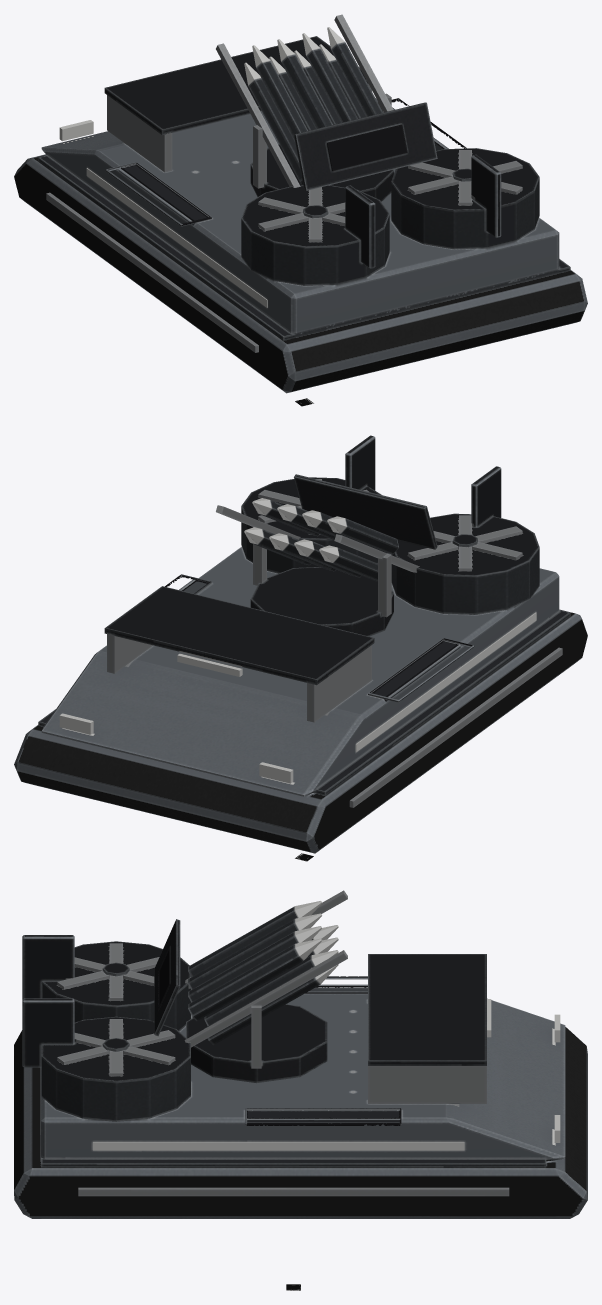
The model's file is chs_sling.fbx.
The picture shows the model from 3 angles, top to bottom: view 1: azimuth 30°, elevation 25°; view 2: azimuth 150°, elevation 25°; view 3: azimuth 270°, elevation 25°; orthographic projection. The views are drawn at different scales.
Visible parts, largest first — view 1: base_bar, turret_bar, fan1_bar, fan2_bar, base_glow_running_bar, turret_glow_weapon_bar, base_glow_head_bar; view 2: base_bar, turret_bar, fan1_bar, base_glow_running_bar, turret_glow_weapon_bar, base_glow_head_bar; view 3: base_bar, turret_bar, base_glow_running_bar, fan2_bar, fan1_bar, turret_glow_weapon_bar.
Part boxes in pixels (box(x1,y1,x2,y2)): base_bar: box(14, 36, 587, 393); turret_bar: box(216, 14, 437, 201); fan1_bar: box(258, 187, 345, 242); fan2_bar: box(408, 150, 522, 205); base_glow_running_bar: box(86, 168, 267, 307); turret_glow_weapon_bar: box(244, 27, 344, 84); base_glow_head_bar: box(59, 120, 93, 141); base_bar: box(14, 435, 587, 853); turret_bar: box(216, 474, 437, 636); fan1_bar: box(408, 515, 522, 571); base_glow_running_bar: box(177, 612, 536, 752); turret_glow_weapon_bar: box(244, 498, 346, 562); base_glow_head_bar: box(59, 713, 293, 783); base_bar: box(14, 935, 587, 1218); turret_bar: box(154, 890, 347, 1083); base_glow_running_bar: box(93, 999, 491, 1150); fan2_bar: box(57, 1019, 175, 1076); fan1_bar: box(57, 943, 159, 1000); turret_glow_weapon_bar: box(295, 901, 338, 984).
Bounding box in the file's own units: 492 × 546 × 772.
Materials: 2 (2 with a texture image).
